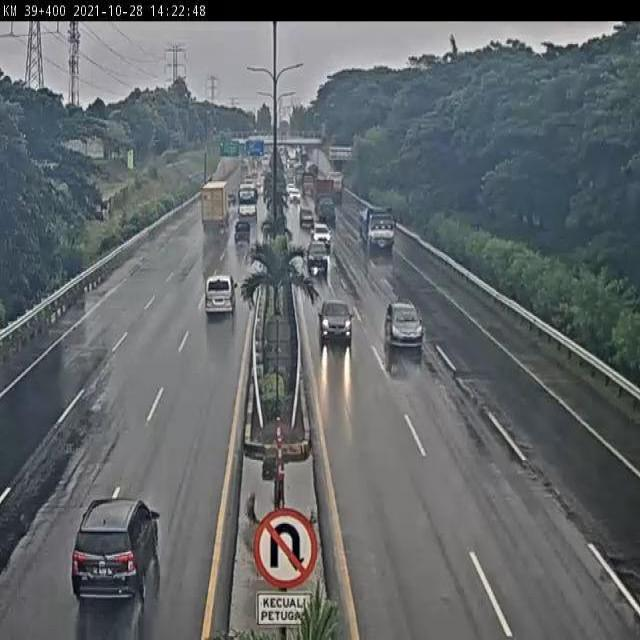car: (71, 500, 159, 604), (384, 302, 426, 349), (318, 298, 355, 346), (305, 240, 331, 272), (234, 217, 254, 247), (312, 221, 333, 248)
truck-l-: (357, 204, 399, 256)
